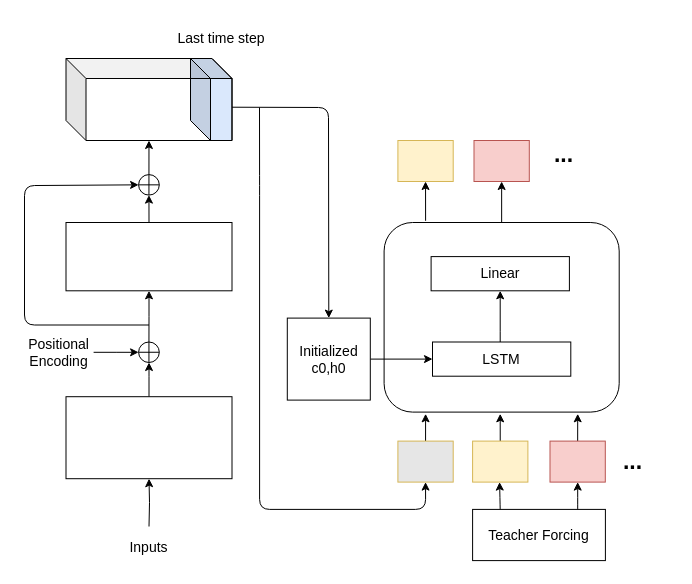
Image size: 692x584. Some labels were removed from this diagram. The shapes that lost their labels are listed below. From the top down, each one's box as (x1, y1, x2, y2) in pixels, then its label:
(65, 222, 232, 291): Transformer Encoder
(65, 396, 232, 479): Input Embedding
